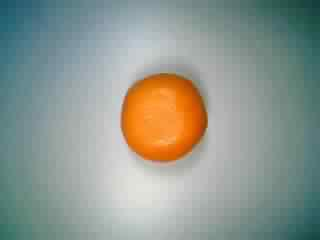orange: (115, 69, 213, 168)
